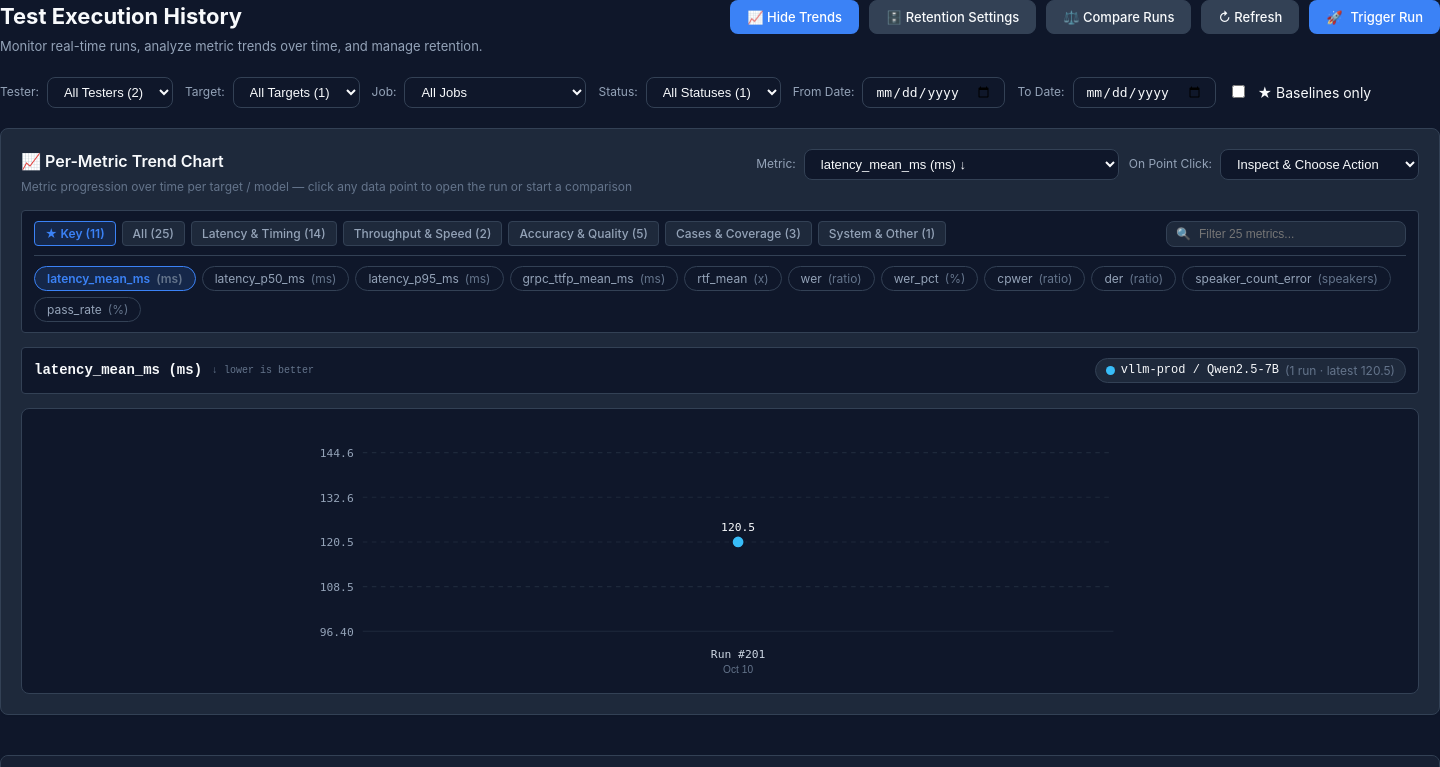
Test case: RunsListView — Filterable Run History, Per-Metric Trend Charts & Retention › groups large metric sets by category, defaults to Key metrics, and supports search and expand/collapse
Expected: the element with test id "trend-metric-toolbar" is shown, [34,220,1406,256]
Expected: the button with test id "trend-metric-pill-wer_pct" is shown, [881,266,978,290]
Click the tab with test id "trend-category-latency". click: [264, 234]
box: [191,221,337,246]
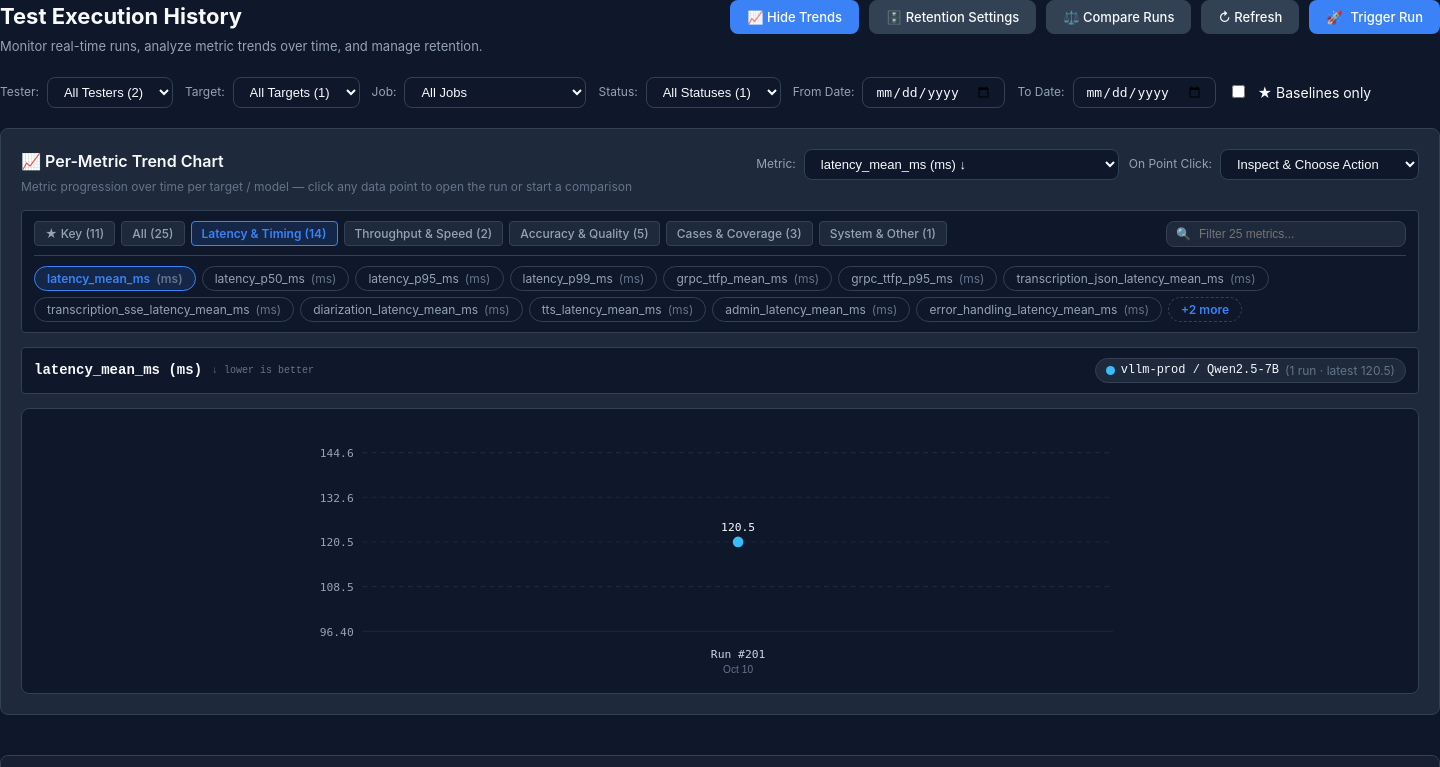
Now the button with test id "trend-pills-expand-btn" reads "+2 more"
Click the button with test id "trend-pills-expand-btn". click: [1205, 309]
box: [1168,296,1242,322]
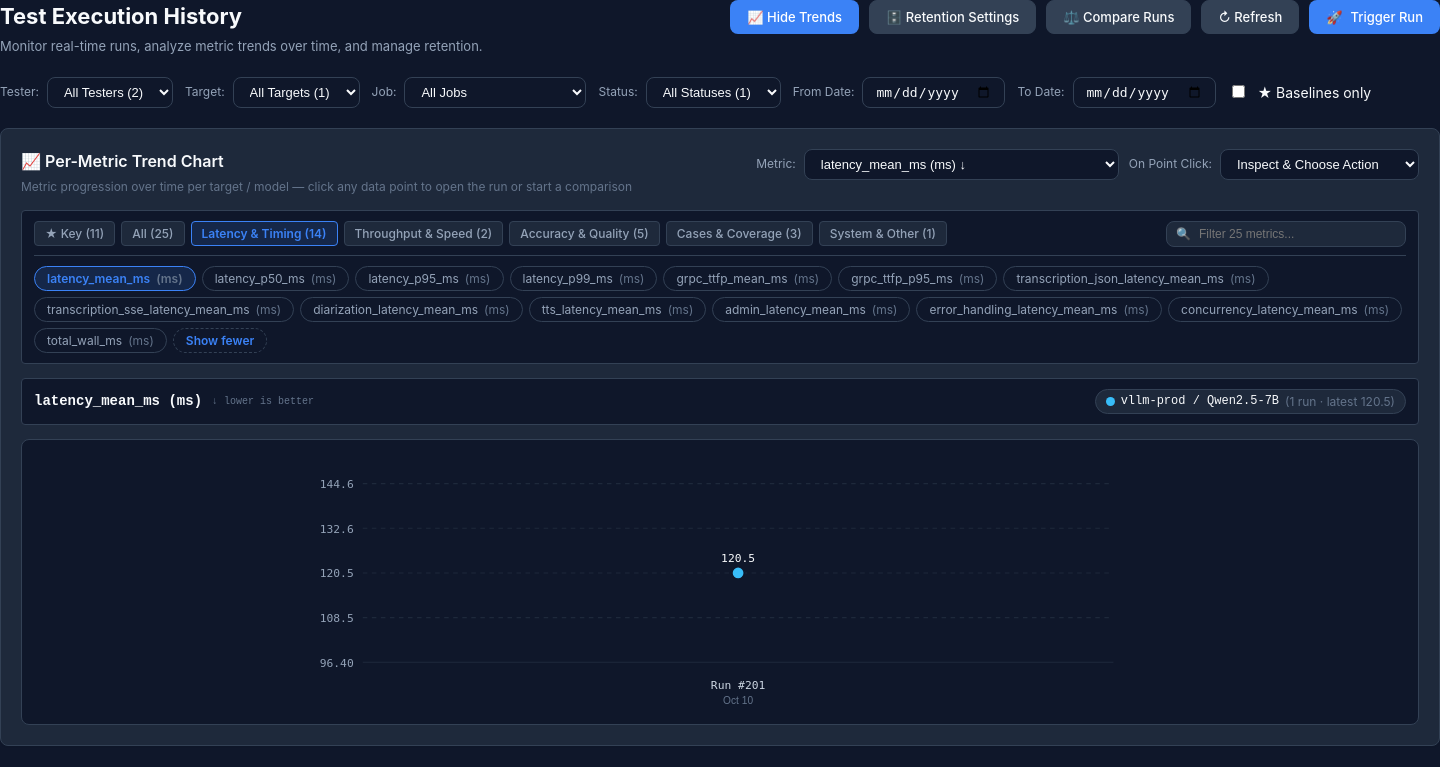
Now the button with test id "trend-metric-pill-total_wall_ms" is shown, box [34,328,167,352]
Now the button with test id "trend-pills-collapse-btn" is shown, box [173,328,267,352]
# Search across all categories
Type "speaker" into the field with test id "trend-metric-search". click: [1286, 234]
box: [1166,220,1406,246]
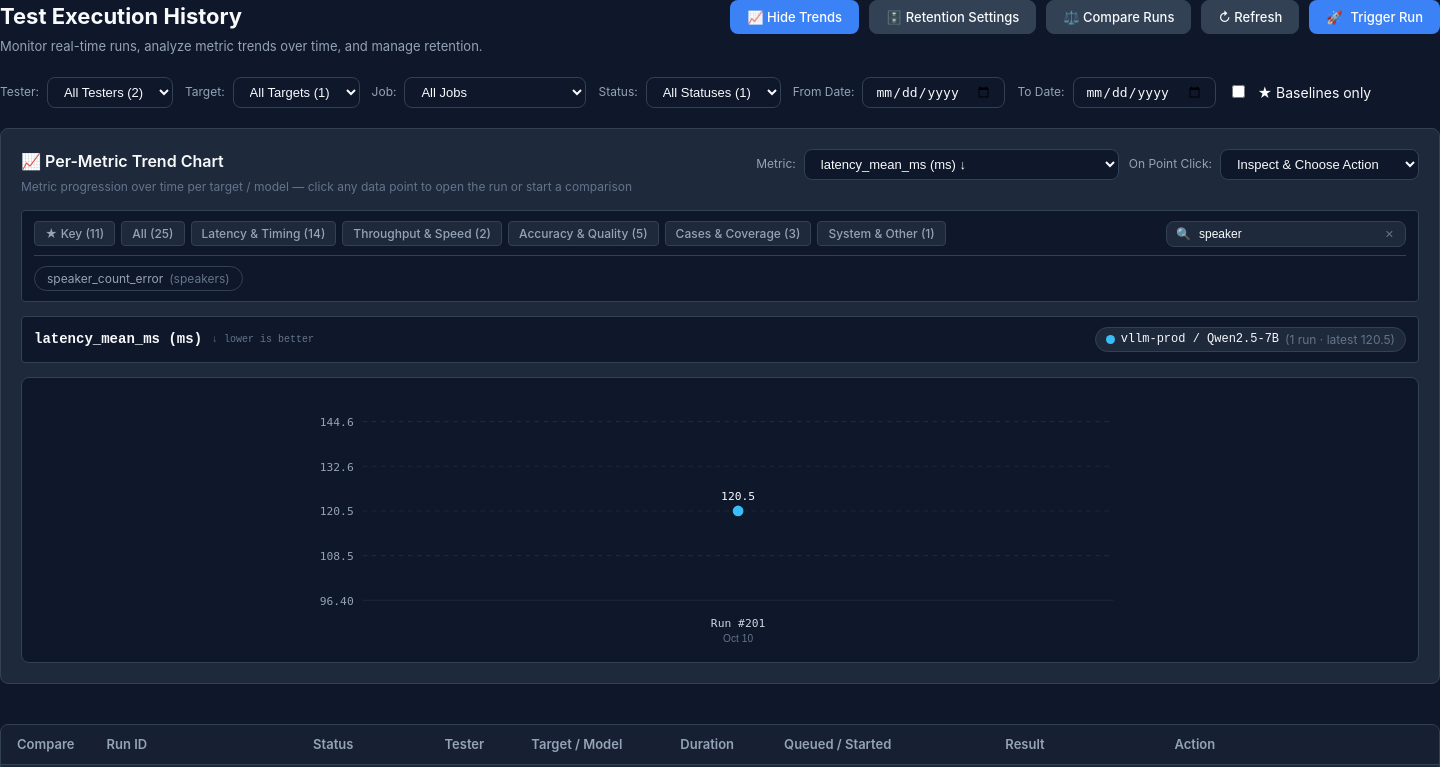
Now the button with test id "trend-metric-pill-speaker_count_error" is shown, box [34,266,243,290]
Now the button with test id "trend-metric-pill-latency_mean_ms" is gone
# Clear search
Click the button with test id "trend-metric-search-clear". click: [1389, 234]
box: [1381,224,1398,242]
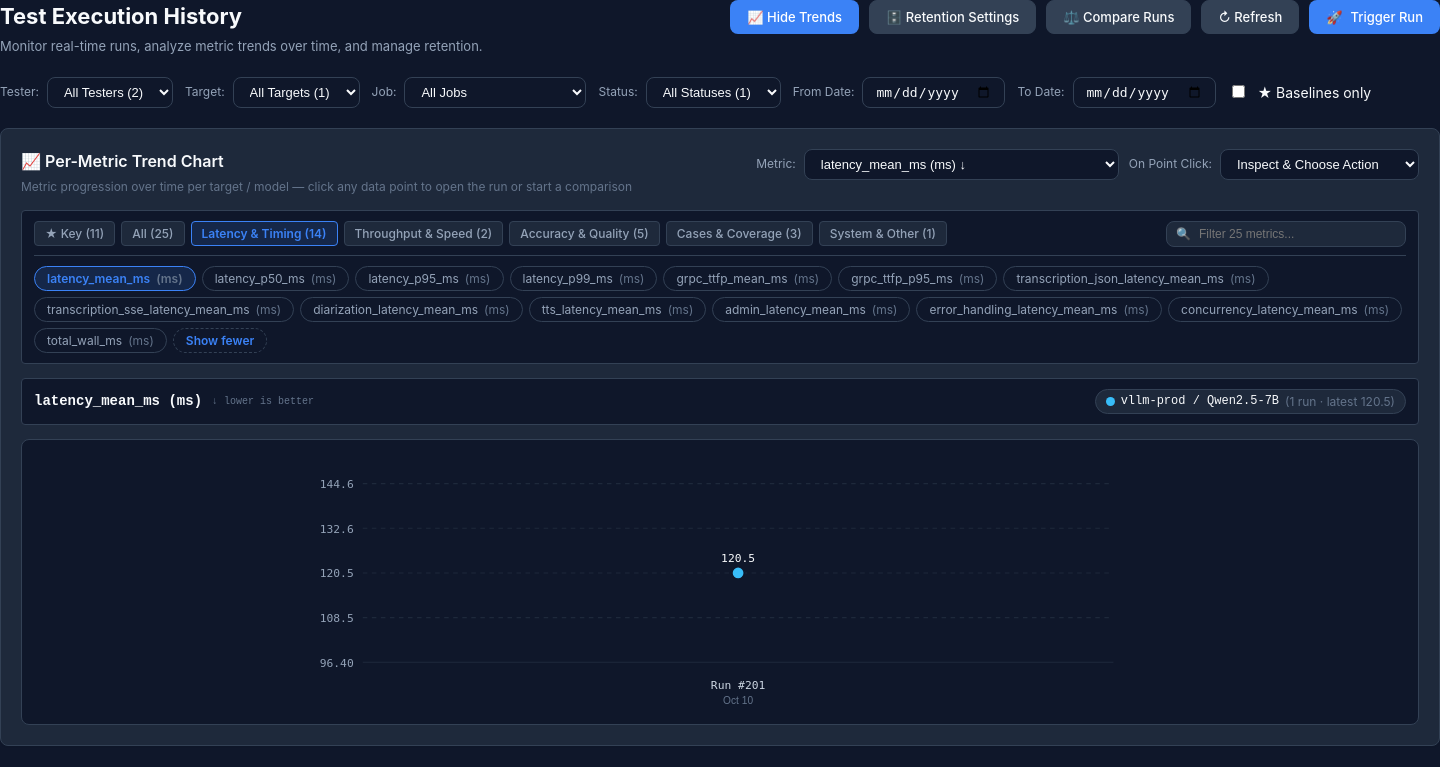
Now the field with test id "trend-metric-search" is empty, box [1166,220,1406,246]
